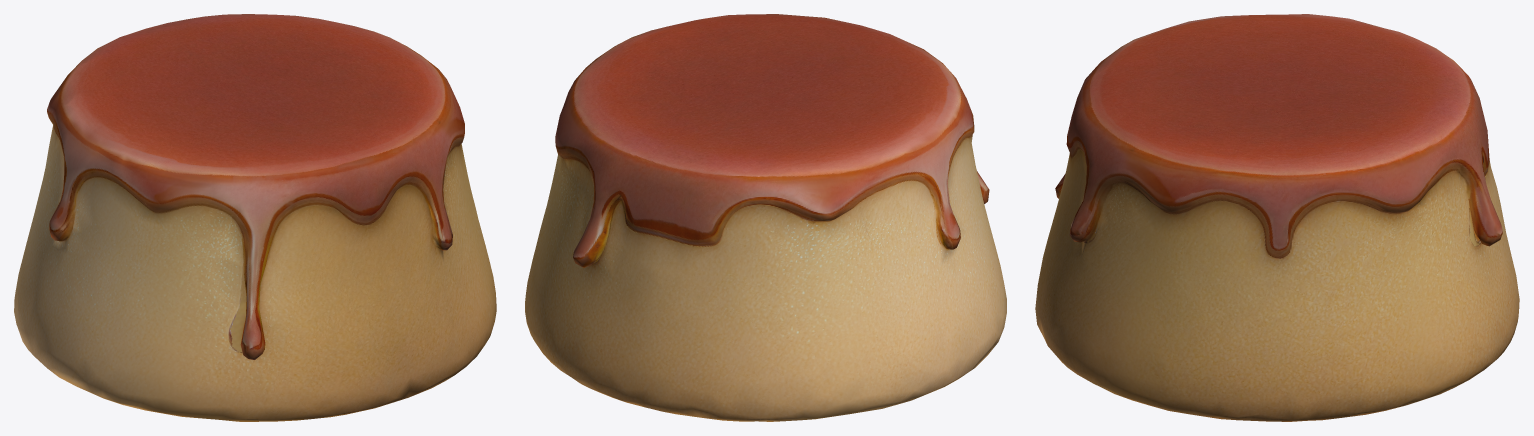
The model's file is pudding.fbx.
The picture shows the model from 3 angles, left to right: view 1: azimuth 30°, elevation 25°; view 2: azimuth 150°, elevation 25°; view 3: azimuth 270°, elevation 25°; orthographic projection.
Visible parts, largest first — view 1: texture_mapping; view 2: texture_mapping; view 3: texture_mapping.
Part boxes in pixels (x1,y1,x2,y2): texture_mapping: (14,14,496,421); texture_mapping: (525,14,1006,421); texture_mapping: (1035,14,1519,421).
Size of the model in its own units: 1 by 1 by 0.5599.
1 material, 1 textured.
